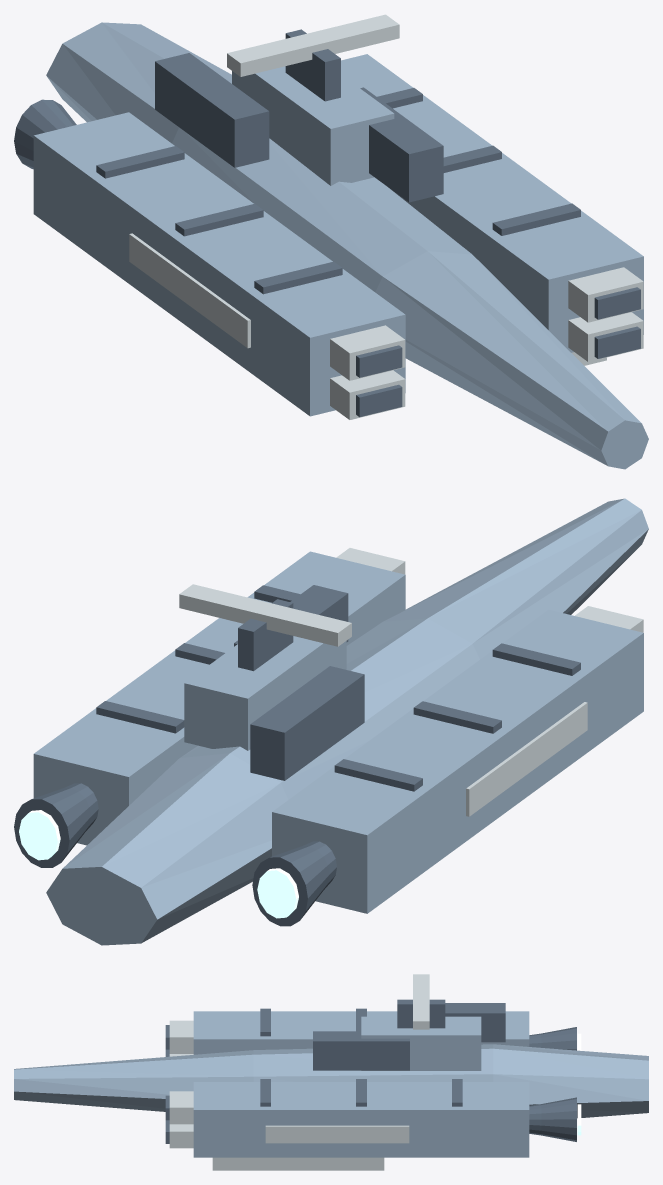
3 views of the same model, one above another, from view 1: azimuth 30°, elevation 25°; view 2: azimuth 150°, elevation 25°; view 3: azimuth 270°, elevation 25° (orthographic). The views are drawn at different scales.
Bounding box in the file's own units: 5.9 × 3.74 × 15.73.
